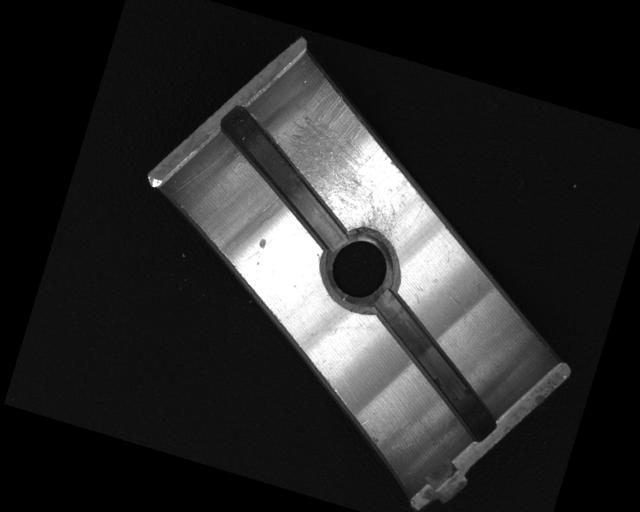bruise: (257, 235, 268, 249)
gap: (342, 286, 524, 445), (197, 102, 371, 252)
hole: (311, 218, 411, 317)
scratch: (265, 74, 436, 249)
